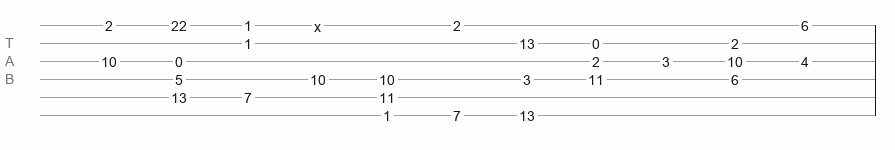0: (175, 54, 183, 64), (592, 36, 600, 46)
1: (244, 36, 252, 46), (244, 18, 252, 28), (383, 108, 391, 118)
10: (101, 54, 117, 64), (310, 72, 326, 82), (379, 72, 395, 82), (727, 54, 743, 64)
11: (379, 90, 395, 100), (588, 72, 604, 82)
13: (171, 90, 187, 100), (519, 108, 535, 118), (519, 36, 535, 46)
2: (105, 18, 113, 28), (453, 18, 461, 28), (592, 54, 600, 64), (731, 36, 739, 46)
22: (171, 18, 187, 28)
3: (523, 72, 531, 82), (662, 54, 670, 64)
4: (801, 54, 809, 64)
5: (175, 72, 183, 82)
6: (731, 72, 739, 82), (801, 18, 809, 28)
7: (244, 90, 252, 100), (453, 108, 461, 118)
x: (314, 19, 321, 27)
